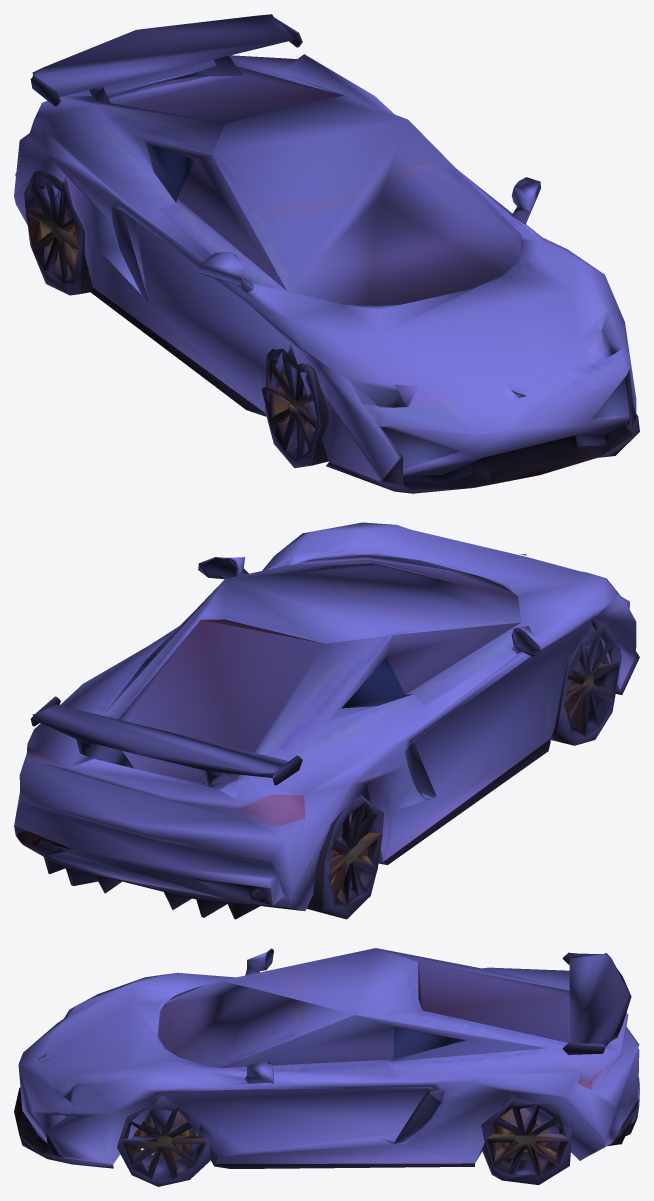
Rendered from model.progressive.glb.
3 renders of one model, top to bottom at view 1: azimuth 30°, elevation 25°; view 2: azimuth 150°, elevation 25°; view 3: azimuth 270°, elevation 25°, orthographic. The views are drawn at different scales.
Visible parts, largest first — view 1: material; view 2: material; view 3: material.
Boxes of the visible parts, left/top/right/bottom form: material: left=14, top=14, right=639, bottom=493; material: left=14, top=522, right=639, bottom=919; material: left=14, top=948, right=639, bottom=1186.
Bounding box in the file's own units: 0.9198 × 0.5018 × 1.9.
1 material, 1 textured.
